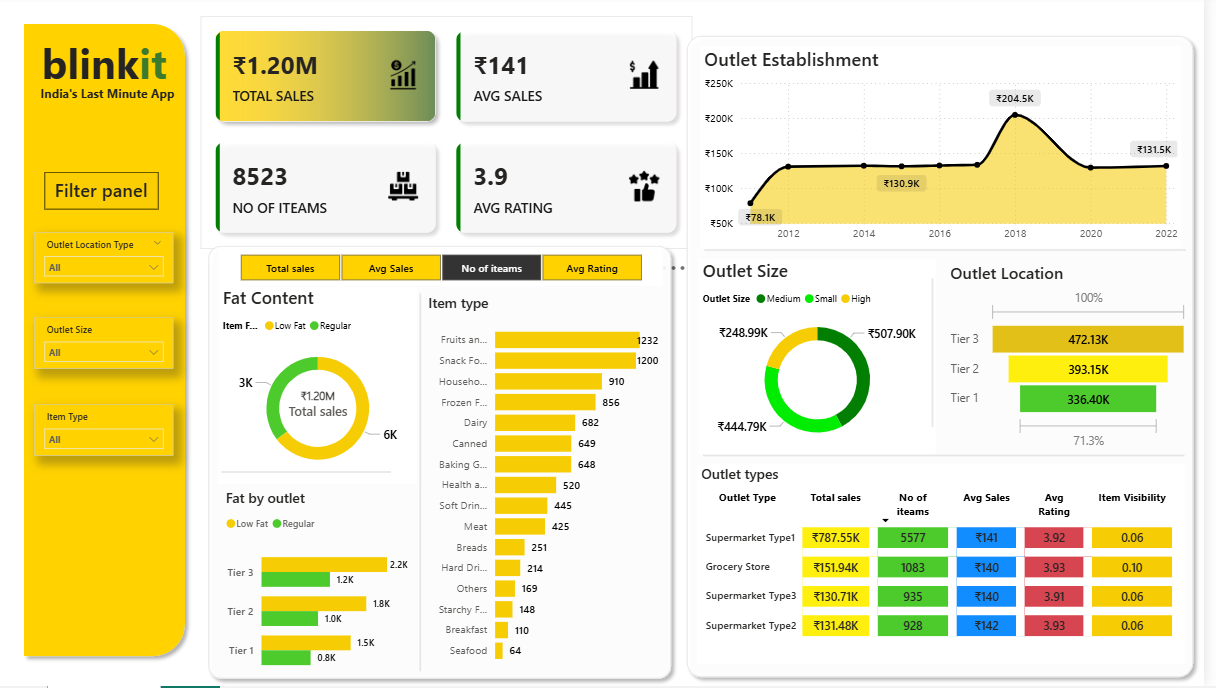

Layout of this report page (visuals, bound fields, positions):
{"tool":"powerbi","page":{"name":"Page 1","canvas":[1400,800],"ordinal":0},"visuals":[{"type":"shape","box":[24.8,24.8,204.6,750.3],"z":0},{"type":"textbox","box":[38.2,39.9,177.1,79.9],"z":1000},{"type":"textbox","box":[46.9,99,166.7,34.7],"z":2000},{"type":"cardVisual","fields":{"Data":["BlinkIT Grocery Data.Total sales","BlinkIT Grocery Data.Avg Sales","BlinkIT Grocery Data.No of iteams","BlinkIT Grocery Data.Avg Rating"]},"box":[237.9,24.3,569.6,269.2],"z":3000},{"type":"shape","box":[237.9,281.3,554,519.3],"z":4000},{"type":"donutChart","title":"Fat Content","fields":{"Y":["BlinkIT Grocery Data.No of iteams"],"Category":["BlinkIT Grocery Data.Item Fat Content"]},"box":[258.8,336.9,229.2,229.2],"z":5000},{"type":"slicer","fields":{"Values":["Metrics.Metrics"]},"box":[258.8,293.5,514,43.4],"z":6000},{"type":"cardVisual","fields":{"Data":["BlinkIT Grocery Data.Total sales"]},"box":[321.3,435.9,105.9,74.7],"z":7000},{"type":"clusteredBarChart","title":"Fat by outlet","fields":{"Y":["BlinkIT Grocery Data.No of iteams"],"Category":["BlinkIT Grocery Data.Outlet Location Type"],"Series":["BlinkIT Grocery Data.Item Fat Content"]},"box":[262.2,571.4,220.6,229.2],"z":8000},{"type":"shape","box":[262.2,538.4,196.2,27.8],"z":9000},{"type":"shape","box":[484.5,345.6,15.6,437.6],"z":10000},{"type":"barChart","title":"Item type","fields":{"Y":["BlinkIT Grocery Data.No of iteams"],"Category":["BlinkIT Grocery Data.Item Type"]},"box":[496.7,345.6,276.1,437.6],"z":11000},{"type":"shape","box":[791.9,38.2,604.4,760.7],"z":12000},{"type":"lineChart","title":"Outlet Establishment","fields":{"Y":["BlinkIT Grocery Data.Total sales"],"Category":["BlinkIT Grocery Data.Outlet Establishment Year"]},"box":[816.2,59,557.5,234.4],"z":13000},{"type":"donutChart","title":"Outlet Size","fields":{"Y":["BlinkIT Grocery Data.Total sales"],"Category":["BlinkIT Grocery Data.Outlet Size"]},"box":[814.5,305.7,274.4,225.8],"z":13001},{"type":"shape","box":[821.4,281.3,557.5,27.8],"z":13002},{"type":"shape","box":[1078.5,328.2,13.9,171.9],"z":13003},{"type":"funnel","title":"Outlet Location","fields":{"Y":["Sum(BlinkIT Grocery Data.Sales)"],"Category":["BlinkIT Grocery Data.Outlet Location Type"]},"box":[1101,309.1,284.8,222.3],"z":13004},{"type":"shape","box":[819.7,519.3,557.5,27.8],"z":13005},{"type":"pivotTable","title":"Outlet types","fields":{"Values":["BlinkIT Grocery Data.Total sales","BlinkIT Grocery Data.No of iteams","BlinkIT Grocery Data.Avg Sales","BlinkIT Grocery Data.Avg Rating","Avg(BlinkIT Grocery Data.Item Visibility)"],"Rows":["BlinkIT Grocery Data.Outlet Type"]},"box":[812.8,543.6,564.4,231],"z":13006},{"type":"slicer","fields":{"Values":["BlinkIT Grocery Data.Outlet Location Type"]},"box":[45.2,274.4,161.5,59],"z":13007},{"type":"slicer","fields":{"Values":["BlinkIT Grocery Data.Outlet Size"]},"box":[45.2,373.4,161.5,59],"z":13008},{"type":"slicer","fields":{"Values":["BlinkIT Grocery Data.Item Type"]},"box":[45.2,474.1,161.5,59],"z":13009},{"type":"textbox","box":[57.3,204.9,132,43.4],"z":13010}]}

Visuals, with their boxes in screenshot pixels (x1, y1, x2, y2), scaled from the page's 1400x800 canvas onto the 1216x688 screenshot:
shape: left=22, top=21, right=199, bottom=667
textbox: left=33, top=34, right=187, bottom=103
textbox: left=41, top=85, right=186, bottom=115
cardVisual - BlinkIT Grocery Data.Total sales x BlinkIT Grocery Data.Avg Sales: left=207, top=21, right=701, bottom=252
shape: left=207, top=242, right=688, bottom=687
"Fat Content" donutChart: left=225, top=290, right=424, bottom=487
slicer - Metrics.Metrics: left=225, top=252, right=671, bottom=290
cardVisual - BlinkIT Grocery Data.Total sales: left=279, top=375, right=371, bottom=439
"Fat by outlet" clusteredBarChart: left=228, top=491, right=419, bottom=687
shape: left=228, top=463, right=398, bottom=487
shape: left=421, top=297, right=434, bottom=674
"Item type" barChart: left=431, top=297, right=671, bottom=674
shape: left=688, top=33, right=1213, bottom=687
"Outlet Establishment" lineChart: left=709, top=51, right=1193, bottom=252
"Outlet Size" donutChart: left=707, top=263, right=946, bottom=457
shape: left=713, top=242, right=1198, bottom=266
shape: left=937, top=282, right=949, bottom=430
"Outlet Location" funnel: left=956, top=266, right=1204, bottom=457
shape: left=712, top=447, right=1196, bottom=471
"Outlet types" pivotTable: left=706, top=467, right=1196, bottom=666
slicer - BlinkIT Grocery Data.Outlet Location Type: left=39, top=236, right=180, bottom=287
slicer - BlinkIT Grocery Data.Outlet Size: left=39, top=321, right=180, bottom=372
slicer - BlinkIT Grocery Data.Item Type: left=39, top=408, right=180, bottom=458
textbox: left=50, top=176, right=164, bottom=214
